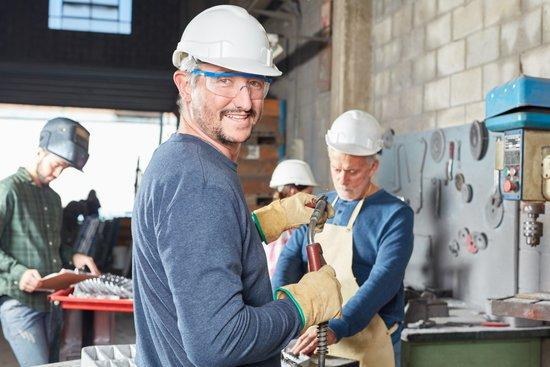helmet: (171, 4, 286, 80), (325, 110, 386, 159), (268, 160, 321, 192)
